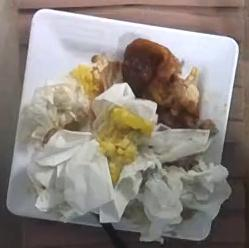rice: (92, 99, 142, 173), (71, 65, 105, 100)
unknown: (123, 39, 198, 117)
